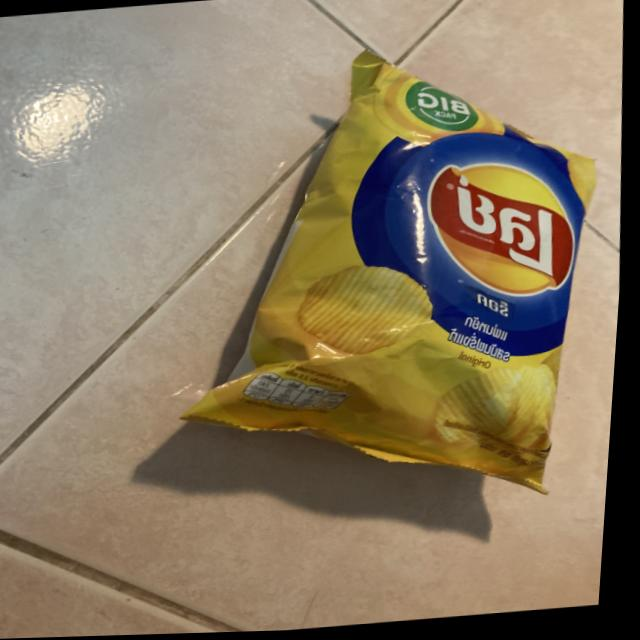LayYellow: (200, 19, 627, 535)
